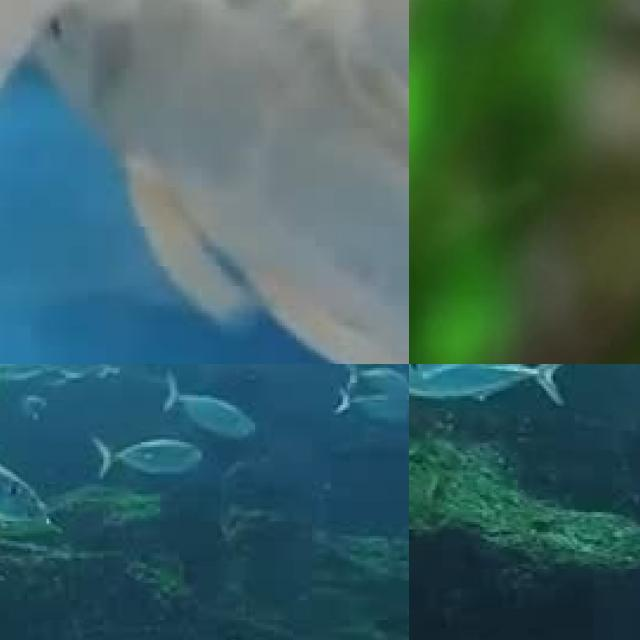fish: (0, 0, 409, 364)
